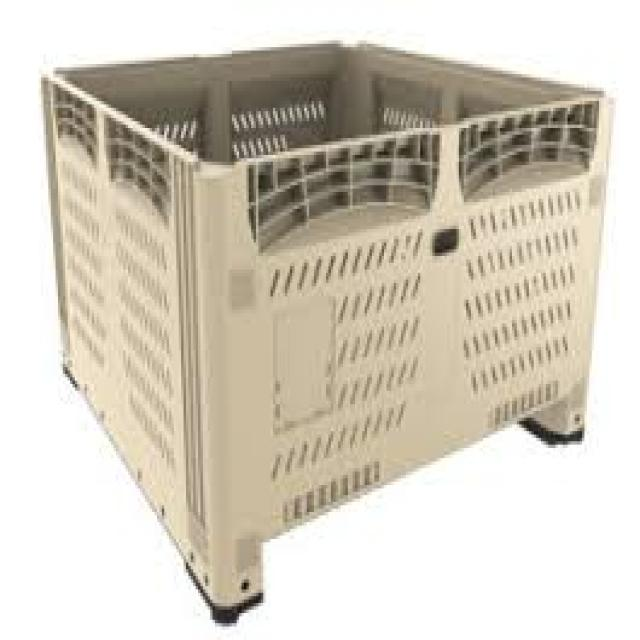basket: (45, 44, 613, 615)
